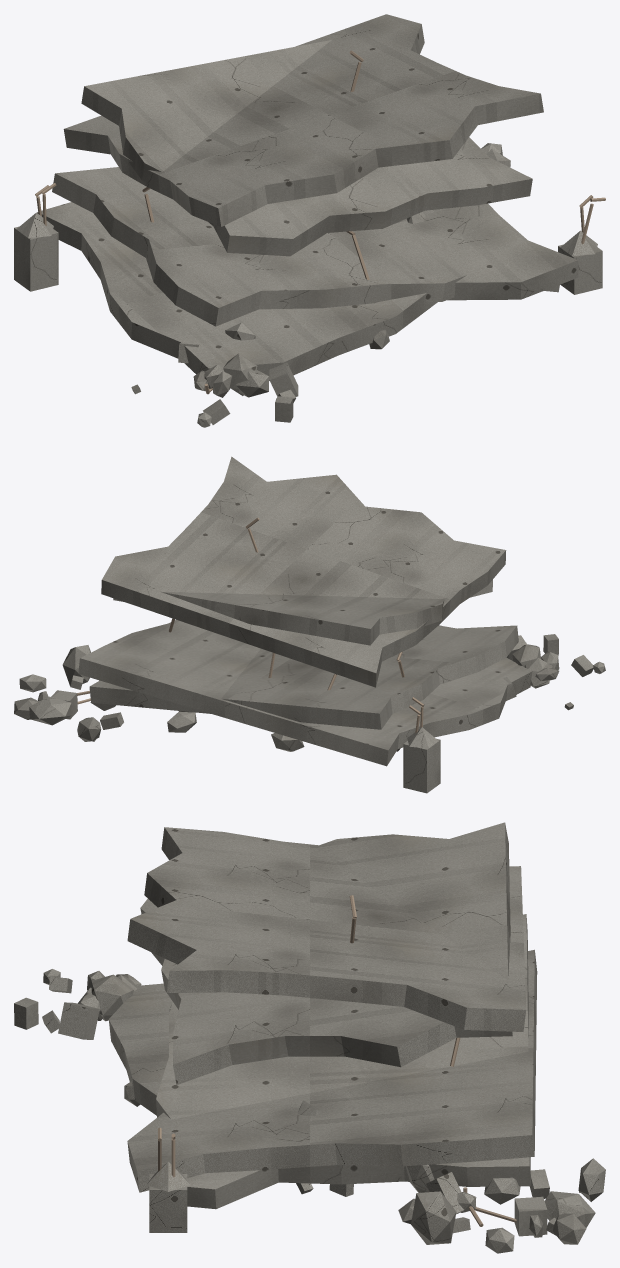
The model's file is Ruin_Pancake.fbx.
3 views of the same model, one above another, from view 1: azimuth 30°, elevation 25°; view 2: azimuth 150°, elevation 25°; view 3: azimuth 270°, elevation 25° (orthographic). The views are drawn at different scales.
Parts seen in each view (by area): view 1: Ruin_Pancake; view 2: Ruin_Pancake; view 3: Ruin_Pancake.
Part boxes in pixels (bbox=[...]): Ruin_Pancake: bbox=[14, 14, 605, 427]; Ruin_Pancake: bbox=[14, 456, 605, 793]; Ruin_Pancake: bbox=[14, 822, 605, 1253].
Bounding box in the file's own units: 7.24 × 2.94 × 6.26.
Materials: 2 (1 with a texture image).
